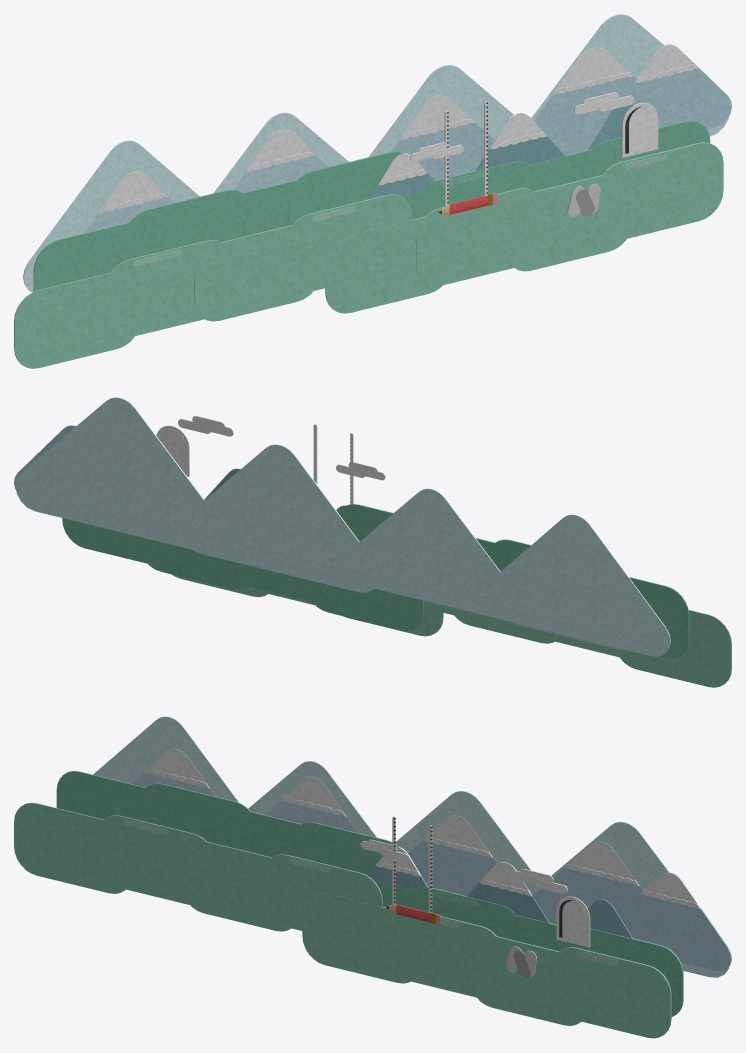
File: decor_level5.glb
3 views of the same model, one above another, from view 1: azimuth 30°, elevation 25°; view 2: azimuth 150°, elevation 25°; view 3: azimuth 330°, elevation 25° (orthographic). The views are drawn at different scales.
Parts seen in each view (by area): view 1: L5_laag8_heuvelsvoor_02.003, L5_laag8_heuvelsvoor_01.003, L5_laag9_heuvelsachter_01.003, L5_laag10_bergenmidden_03.003, L5_laag10_bergen_01.003, L5_laag9_heuvelsachter_03.003, L5_laag10_bergenver_02.003, L5_laag9_bergendichtbij_02.003, L5_laag7_deur_02.003, L5_laag7_wolken_01.003, L5_laag6_bukpotlood_02.003, L5_laag6_rotsjes_01.003; view 2: L5_laag10_bergenver_02.003, L5_laag10_bergen_01.003, L5_laag9_heuvelsachter_03.003, L5_laag8_heuvelsvoor_01.003, L5_laag9_heuvelsachter_01.003, L5_laag8_heuvelsvoor_02.003, L5_laag7_wolken_01.003, L5_laag7_deur_02.003, L5_laag6_bukpotlood_02.003; view 3: L5_laag8_heuvelsvoor_02.003, L5_laag8_heuvelsvoor_01.003, L5_laag10_bergenmidden_03.003, L5_laag9_heuvelsachter_01.003, L5_laag10_bergen_01.003, L5_laag9_heuvelsachter_03.003, L5_laag10_bergenver_02.003, L5_laag9_bergendichtbij_02.003, L5_laag7_deur_02.003, L5_laag6_bukpotlood_02.003, L5_laag7_wolken_01.003, L5_laag6_rotsjes_01.003.
Part boxes in pixels (left/top/right/bottom): L5_laag8_heuvelsvoor_02.003: left=325, top=142, right=723, bottom=313; L5_laag8_heuvelsvoor_01.003: left=14, top=194, right=411, bottom=368; L5_laag9_heuvelsachter_01.003: left=33, top=151, right=403, bottom=291; L5_laag10_bergenmidden_03.003: left=391, top=44, right=731, bottom=180; L5_laag10_bergen_01.003: left=23, top=112, right=348, bottom=292; L5_laag9_heuvelsachter_03.003: left=401, top=120, right=710, bottom=219; L5_laag10_bergenver_02.003: left=368, top=14, right=728, bottom=157; L5_laag9_bergendichtbij_02.003: left=370, top=104, right=633, bottom=198; L5_laag7_deur_02.003: left=621, top=102, right=658, bottom=157; L5_laag7_wolken_01.003: left=410, top=92, right=634, bottom=161; L5_laag6_bukpotlood_02.003: left=438, top=101, right=497, bottom=215; L5_laag6_rotsjes_01.003: left=567, top=183, right=600, bottom=216; L5_laag10_bergenver_02.003: left=15, top=397, right=373, bottom=592; L5_laag10_bergen_01.003: left=344, top=488, right=670, bottom=656; L5_laag9_heuvelsachter_03.003: left=62, top=518, right=423, bottom=630; L5_laag8_heuvelsvoor_01.003: left=423, top=600, right=731, bottom=687; L5_laag9_heuvelsachter_01.003: left=338, top=504, right=689, bottom=658; L5_laag8_heuvelsvoor_02.003: left=172, top=574, right=443, bottom=636; L5_laag7_wolken_01.003: left=178, top=415, right=385, bottom=480; L5_laag7_deur_02.003: left=156, top=425, right=189, bottom=476; L5_laag6_bukpotlood_02.003: left=313, top=424, right=353, bottom=504; L5_laag8_heuvelsvoor_02.003: left=302, top=892, right=671, bottom=1038; L5_laag8_heuvelsvoor_01.003: left=14, top=802, right=382, bottom=931; L5_laag10_bergenmidden_03.003: left=408, top=815, right=731, bottom=971; L5_laag9_heuvelsachter_01.003: left=56, top=771, right=399, bottom=874; L5_laag10_bergen_01.003: left=93, top=716, right=377, bottom=837; L5_laag9_heuvelsachter_03.003: left=373, top=880, right=683, bottom=1016; L5_laag10_bergenver_02.003: left=395, top=791, right=729, bottom=977; L5_laag9_bergendichtbij_02.003: left=367, top=847, right=632, bottom=938; L5_laag7_deur_02.003: left=556, top=896, right=590, bottom=947; L5_laag6_bukpotlood_02.003: left=386, top=816, right=441, bottom=924; L5_laag7_wolken_01.003: left=360, top=839, right=567, bottom=894; L5_laag6_rotsjes_01.003: left=506, top=946, right=536, bottom=978.
Size of the model in its own units: 45.51 by 12.05 by 4.28.
Materials: 27 (27 with a texture image).
